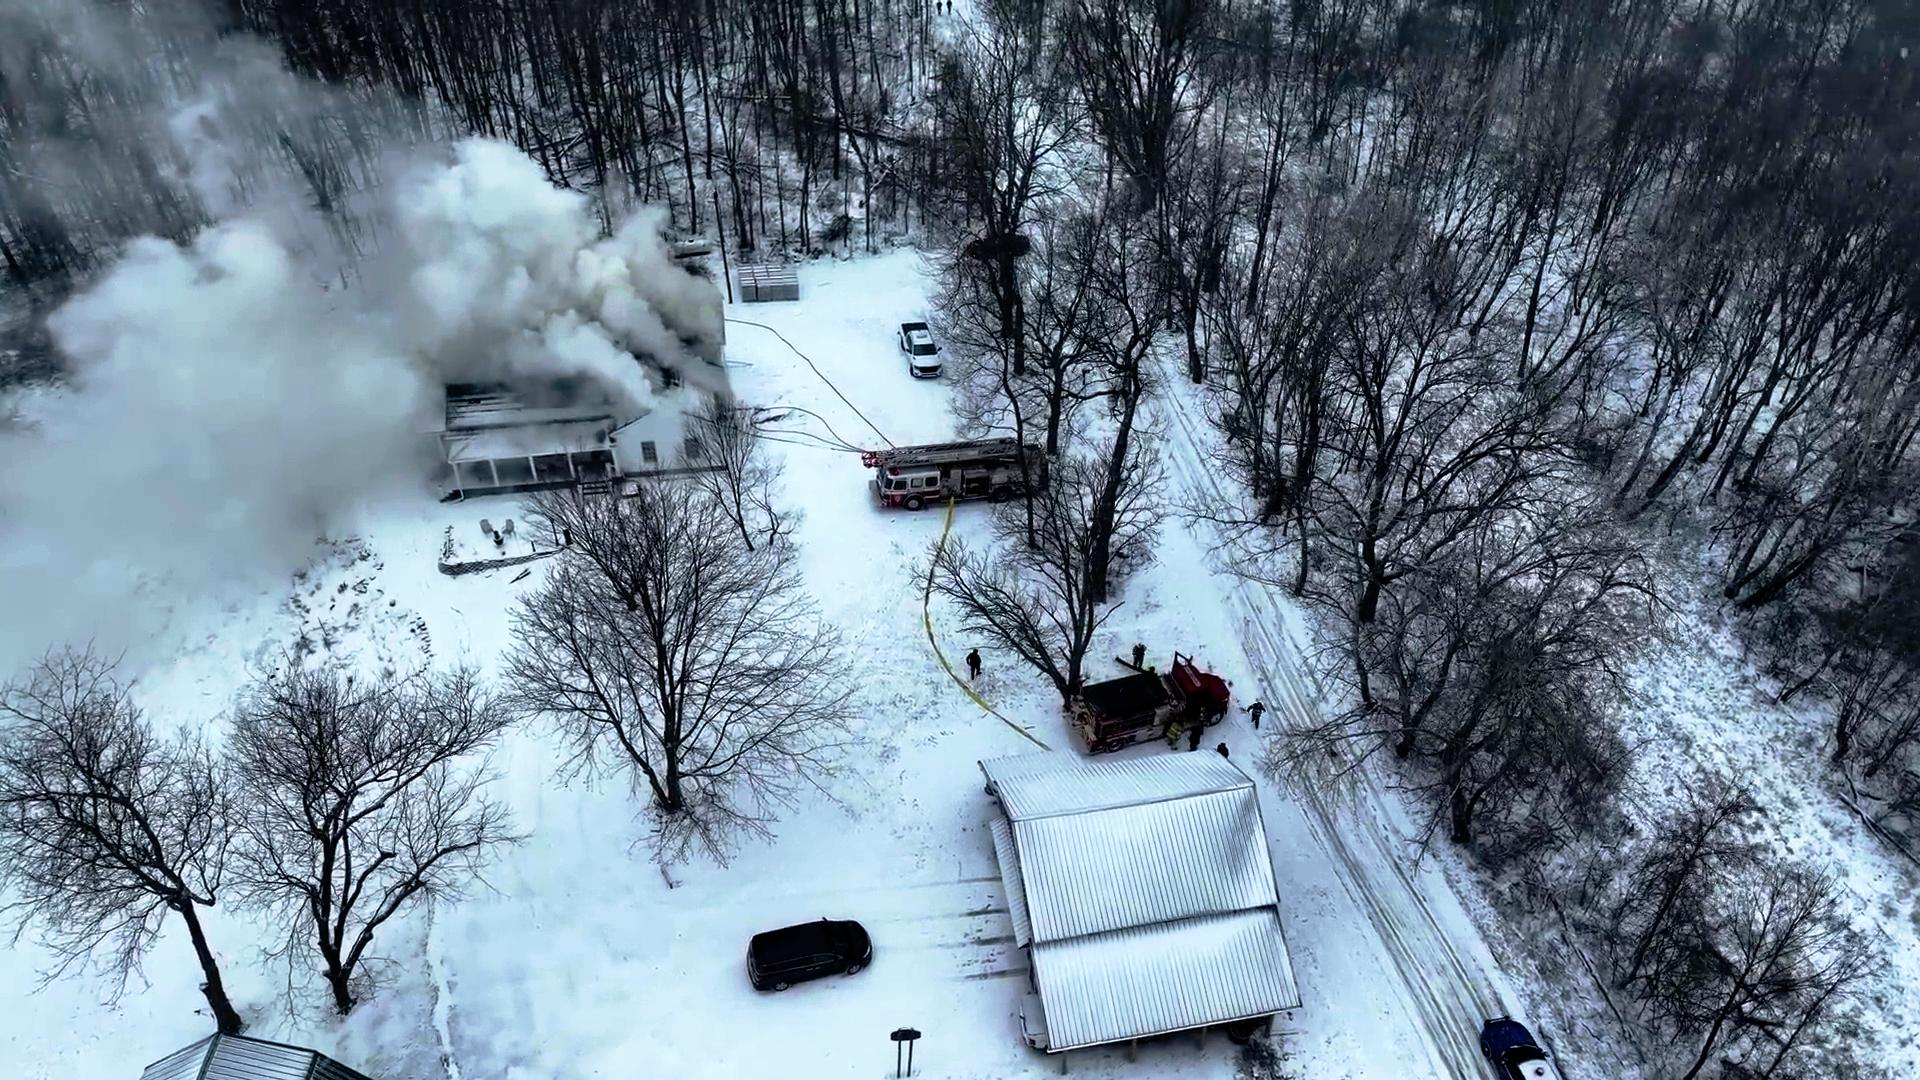smoke: (393, 191, 678, 323)
